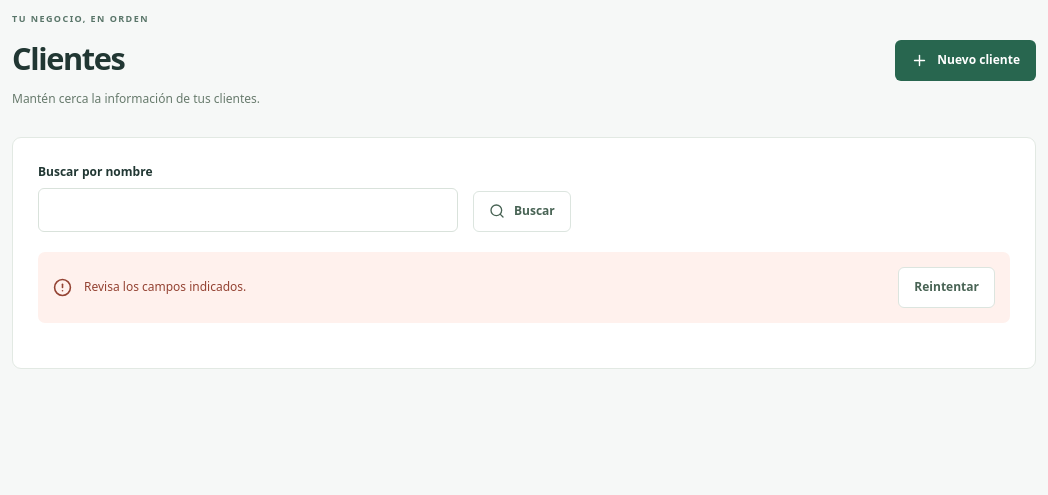
Scenario: Catálogo › permite recuperar una consulta fallida
The width and height of the screenshot is (1048, 495).
Expected: the message "Revisa los campos indicados. Reintentar" is shown, [38,252,1010,323]
Click the button "Reintentar".
click(947, 287)  # box [898,267,995,308]
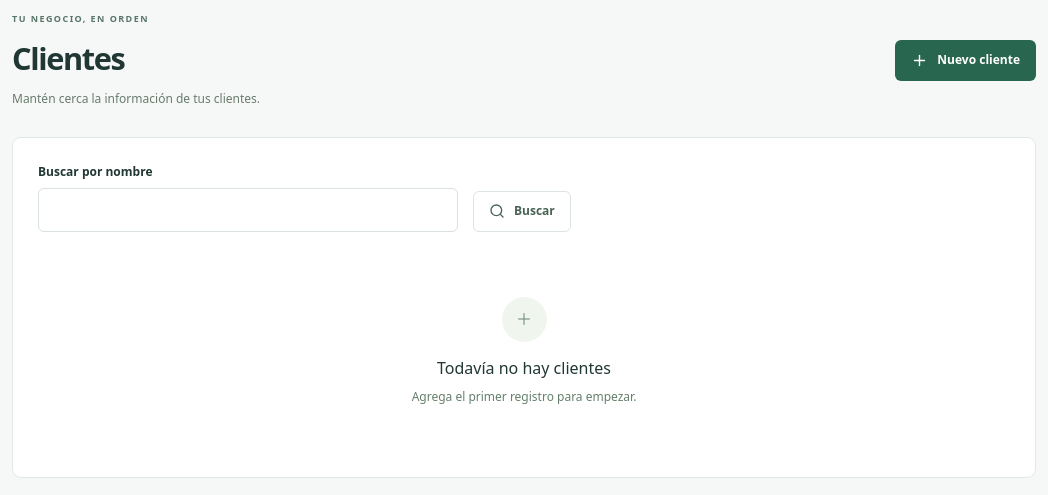
Expected: the heading "Todavía no hay clientes" is shown, [437,357,611,379]
